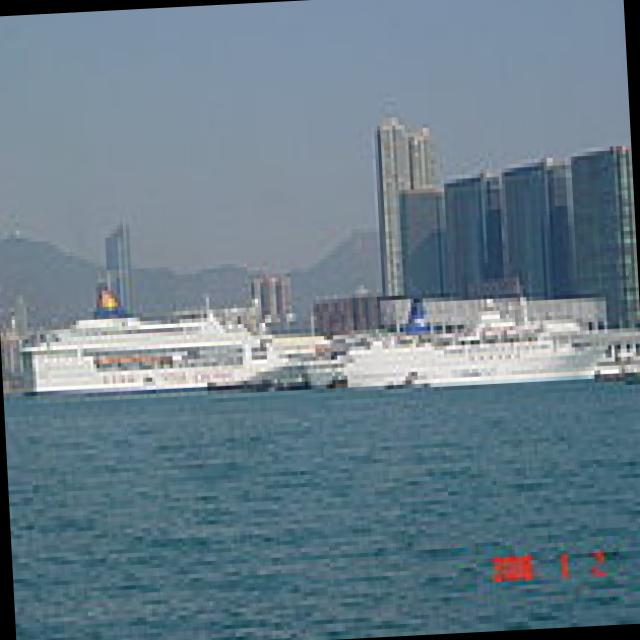boat: (21, 307, 288, 406), (332, 322, 616, 402)
